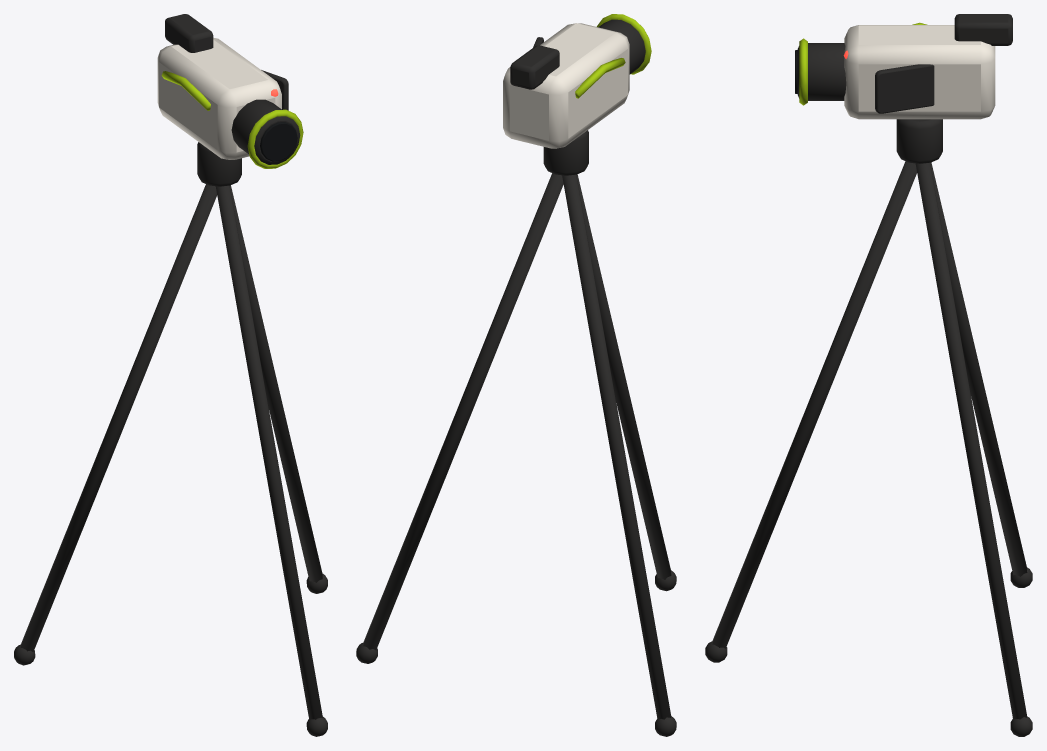
The model's file is video-camera.glb.
3 views of the same model, side by side, from view 1: azimuth 30°, elevation 25°; view 2: azimuth 150°, elevation 25°; view 3: azimuth 270°, elevation 25° (orthographic). The views are drawn at different scales.
Visible parts, largest first — view 1: video-camera; view 2: video-camera; view 3: video-camera.
Boxes of the visible parts, <box> form: video-camera: <box>14,14,327,736</box>; video-camera: <box>356,14,676,736</box>; video-camera: <box>705,14,1032,736</box>.
Bounding box in the file's own units: 0.6441 × 1.22 × 0.5628.
